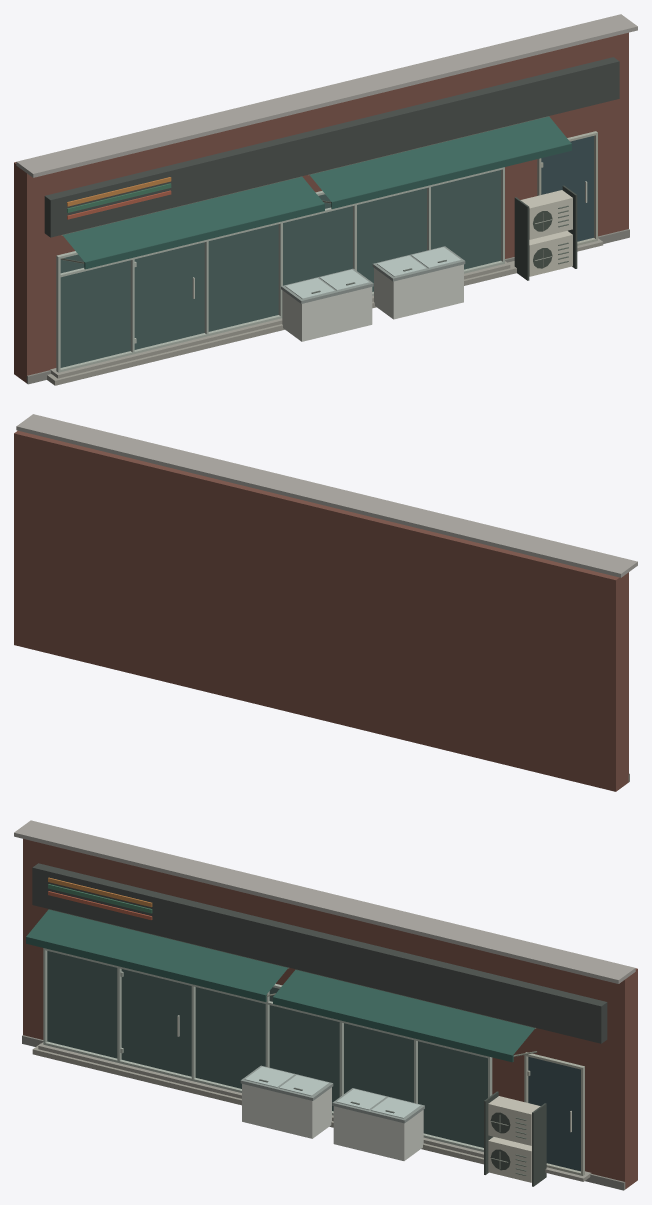
The model's file is shop-convenience-01.glb.
3 views of the same model, one above another, from view 1: azimuth 30°, elevation 25°; view 2: azimuth 150°, elevation 25°; view 3: azimuth 330°, elevation 25° (orthographic).
Parts seen in each view (by area): view 1: korean-facade-parts-536c68, korean-facade-parts-865c50, korean-facade-parts-515753, korean-facade-parts-3f6a60, korean-facade-parts-b4b1aa, korean-facade-parts-d9dbd2, korean-facade-parts-b9c2b7, korean-facade-parts-465c60, korean-facade-parts-d1cfc0, korean-facade-parts-c4d3cd, korean-facade-parts-aaa99e, korean-facade-parts-aaa99f (+8 smaller); view 2: korean-facade-parts-865c50, korean-facade-parts-b4b1aa; view 3: korean-facade-parts-536c68, korean-facade-parts-865c50, korean-facade-parts-515753, korean-facade-parts-3f6a60, korean-facade-parts-b4b1aa, korean-facade-parts-d9dbd2, korean-facade-parts-b9c2b7, korean-facade-parts-465c60, korean-facade-parts-d1cfc0, korean-facade-parts-c4d3cd, korean-facade-parts-aaa99f, korean-facade-parts-aaa99e (+8 smaller).
Part boxes in pixels (box(x1,y1,x2,y2)): korean-facade-parts-536c68: box(60, 170, 500, 367); korean-facade-parts-865c50: box(14, 32, 628, 382); korean-facade-parts-515753: box(44, 57, 619, 237); korean-facade-parts-3f6a60: box(62, 116, 571, 269); korean-facade-parts-b4b1aa: box(16, 14, 637, 177); korean-facade-parts-d9dbd2: box(282, 264, 463, 341); korean-facade-parts-b9c2b7: box(56, 167, 504, 372); korean-facade-parts-465c60: box(541, 136, 593, 241); korean-facade-parts-d1cfc0: box(520, 190, 572, 276); korean-facade-parts-c4d3cd: box(285, 247, 461, 299); korean-facade-parts-aaa99e: box(47, 261, 516, 385); korean-facade-parts-aaa99f: box(50, 238, 603, 378); korean-facade-parts-865c50: box(14, 430, 628, 791); korean-facade-parts-b4b1aa: box(16, 414, 637, 577); korean-facade-parts-536c68: box(47, 951, 487, 1147); korean-facade-parts-865c50: box(23, 839, 637, 1189); korean-facade-parts-515753: box(32, 863, 607, 1043); korean-facade-parts-3f6a60: box(26, 909, 534, 1062); korean-facade-parts-b4b1aa: box(14, 820, 635, 983); korean-facade-parts-d9dbd2: box(242, 1084, 423, 1160); korean-facade-parts-b9c2b7: box(43, 948, 492, 1151); korean-facade-parts-465c60: box(528, 1057, 580, 1171); korean-facade-parts-d1cfc0: box(488, 1096, 540, 1182); korean-facade-parts-c4d3cd: box(244, 1066, 420, 1118); korean-facade-parts-aaa99f: box(38, 1042, 591, 1181); korean-facade-parts-aaa99e: box(32, 1043, 483, 1164).
Bounding box in the file's own units: 12.86 × 4.38 × 1.52.
